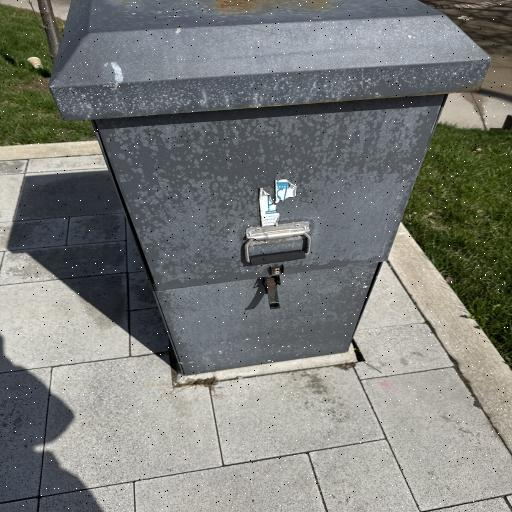Electrical Box: (47, 1, 491, 375)
